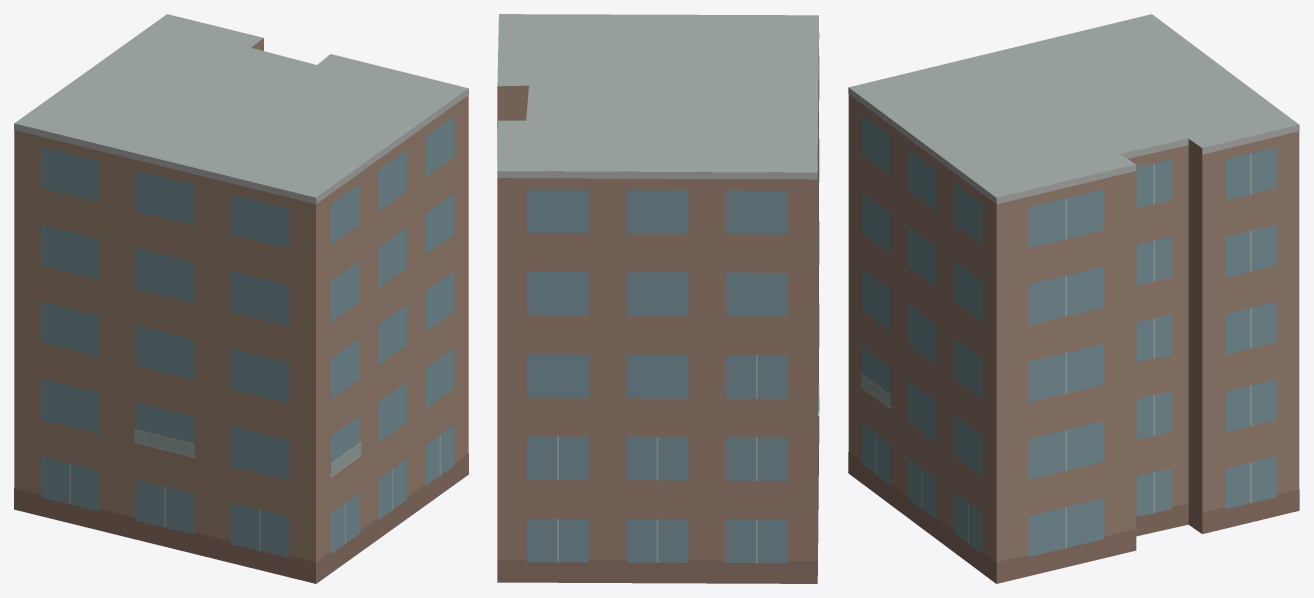
The model's file is survey-upis-32696178.glb.
3 views of the same model, side by side, from view 1: azimuth 30°, elevation 25°; view 2: azimuth 150°, elevation 25°; view 3: azimuth 270°, elevation 25° (orthographic). The views are drawn at different scales.
Visible parts, largest first — view 1: survey-upis-32696178.tmp; view 2: survey-upis-32696178.tmp; view 3: survey-upis-32696178.tmp.
Part boxes in pixels (<box>): survey-upis-32696178.tmp: <box>14,14,468,583</box>; survey-upis-32696178.tmp: <box>497,14,819,583</box>; survey-upis-32696178.tmp: <box>848,14,1299,583</box>.
Size of the model in its own units: 14.82 by 14.5 by 15.36.
